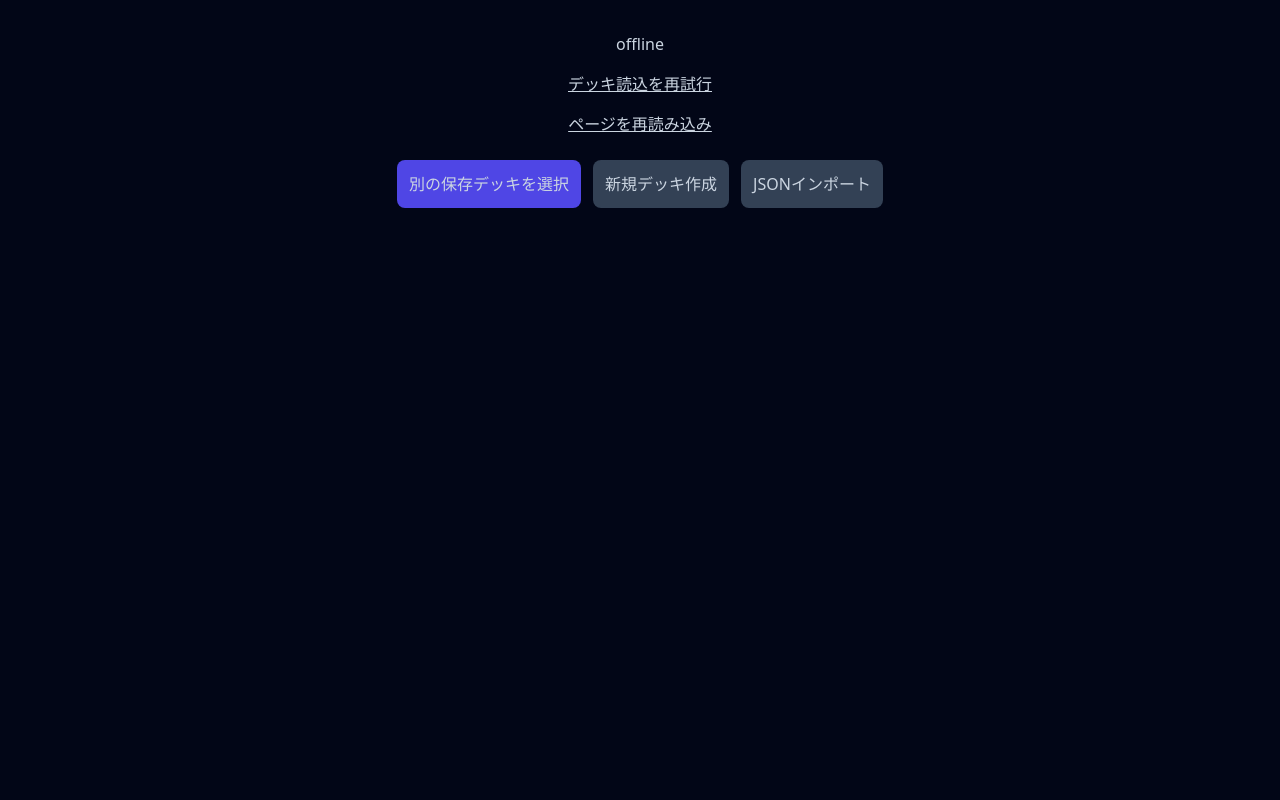
it: allows choosing a different saved deck after the first deck fails
Expected: the message shows "offline", [616, 33, 664, 55]
Click the button "別の保存デッキを選択" at (489, 184), box [397, 160, 581, 208]
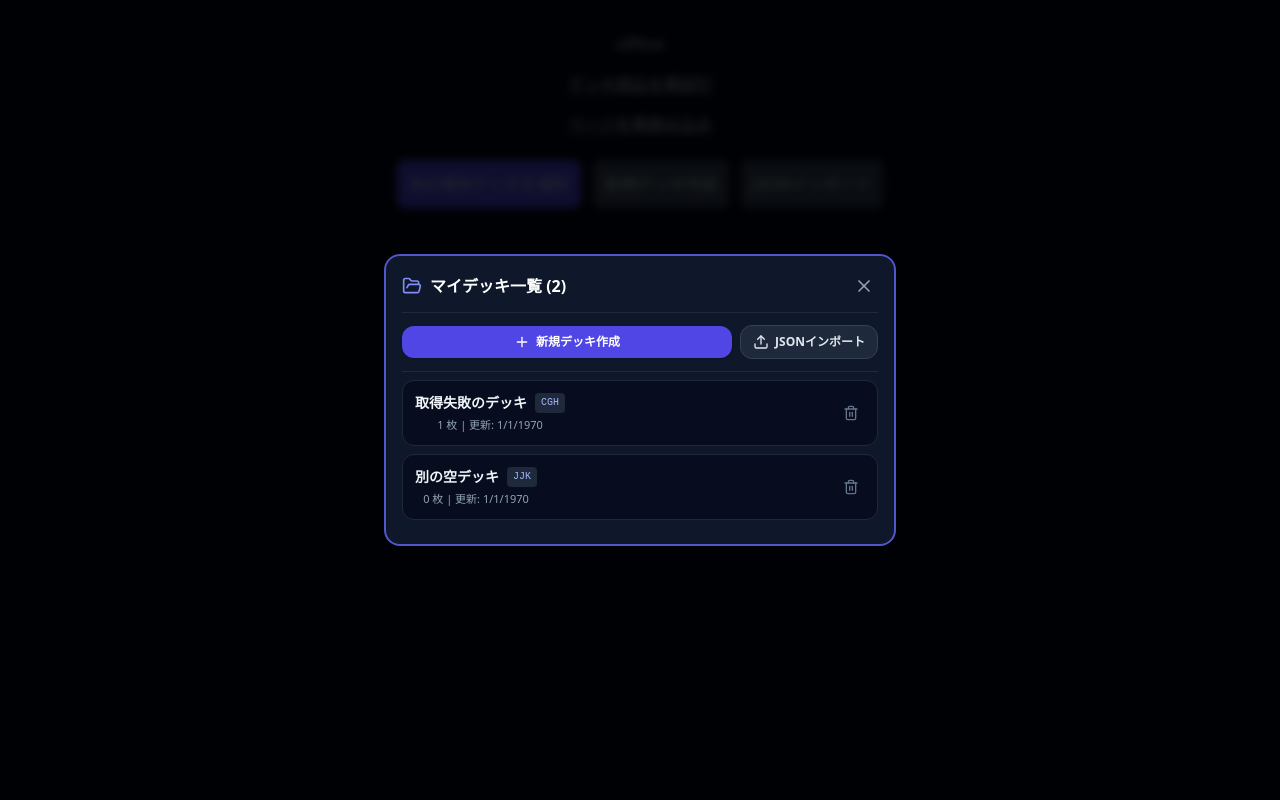
Click the text "別の空デッキ" at (457, 477), box [415, 467, 499, 487]
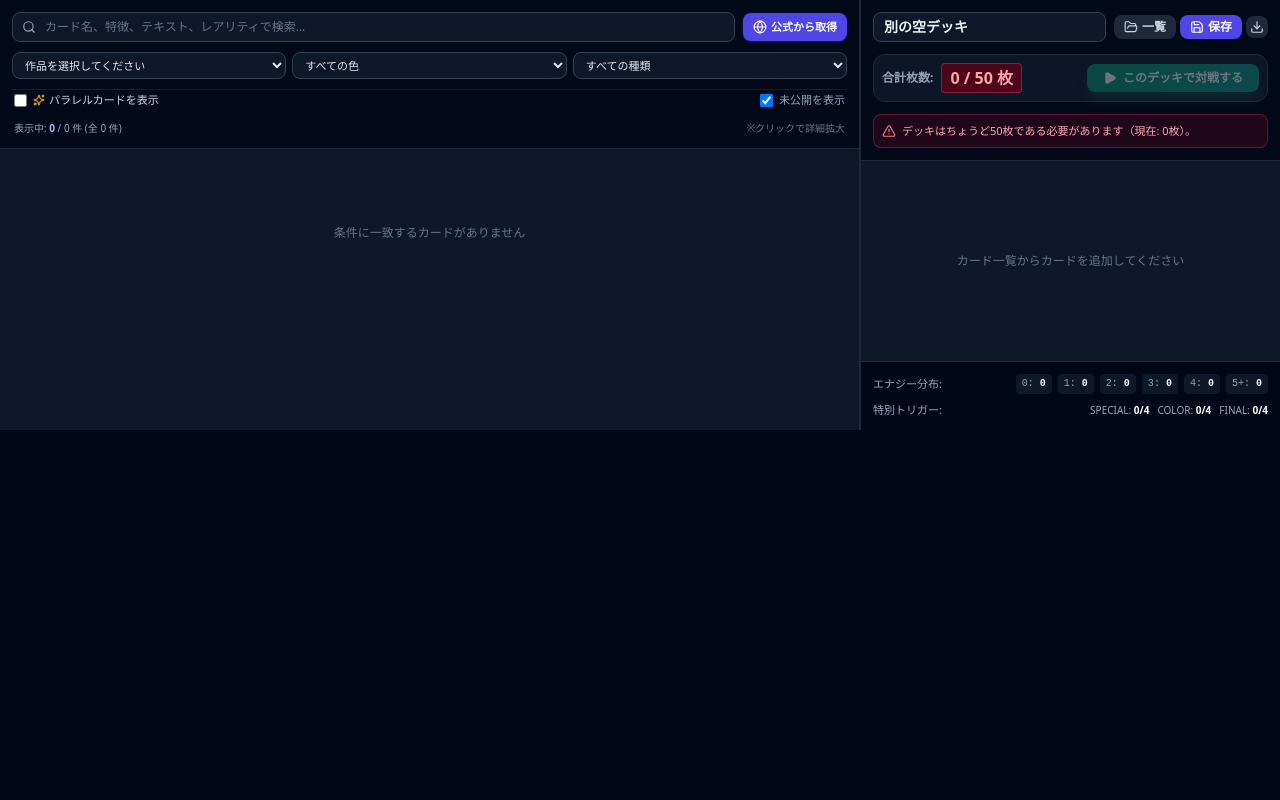
Expected: the field with placeholder "デッキ名を入力..." holds "別の空デッキ", [873, 12, 1106, 42]
